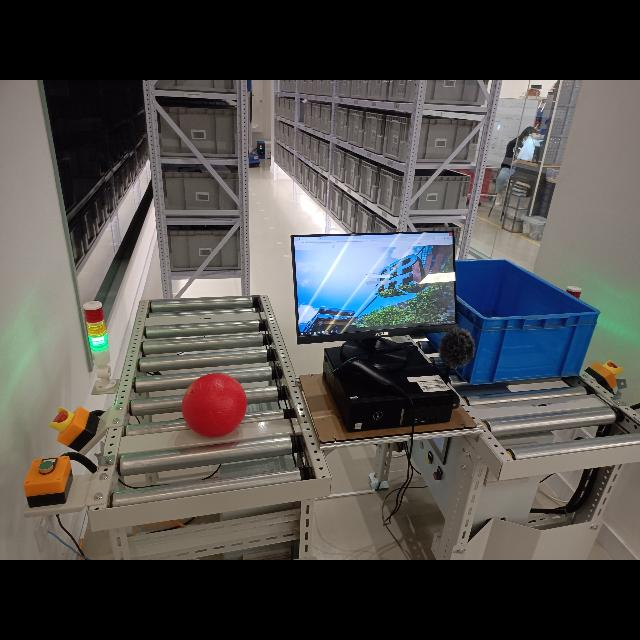R: (182, 373, 246, 437)
